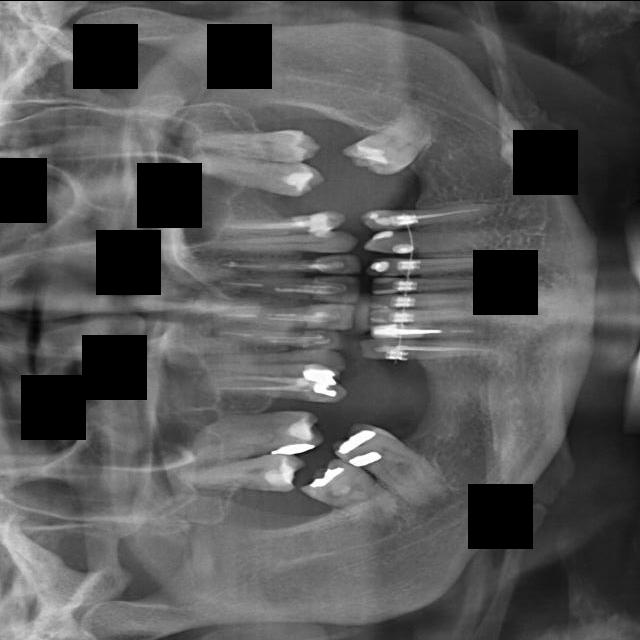AGS Medikal Implant: (188, 252, 359, 274)
AMerOss Implant: (188, 231, 359, 251)
Amalgam filling: (206, 211, 343, 234)
Bicon Implant: (186, 145, 323, 200)
BioHorizons Implant: (187, 118, 327, 165)
Biomet 3i Implant: (346, 102, 442, 192)
Caries: (187, 451, 317, 503)
Composite filling: (367, 199, 496, 232)
Cowellmedi Implant: (372, 228, 499, 253)
Crown: (373, 252, 506, 275)
DENTSPLY Implant: (376, 267, 495, 295)
Dentatus Implant: (377, 291, 479, 306)
Dentis Implant: (372, 306, 483, 321)
Dentium Implant: (377, 320, 487, 342)
Euroteknika Implant: (365, 332, 492, 362)
Hiossen Implant: (207, 403, 328, 466)
Implant: (333, 409, 459, 515)
Keystone Dental Implant: (307, 455, 406, 546)
Mandible: (213, 368, 348, 405)
Maxilla: (212, 342, 338, 377)
Megagen Implant: (213, 324, 341, 350)
Neodent Implant: (234, 304, 360, 331)
Neoss Implant: (213, 274, 363, 302)
